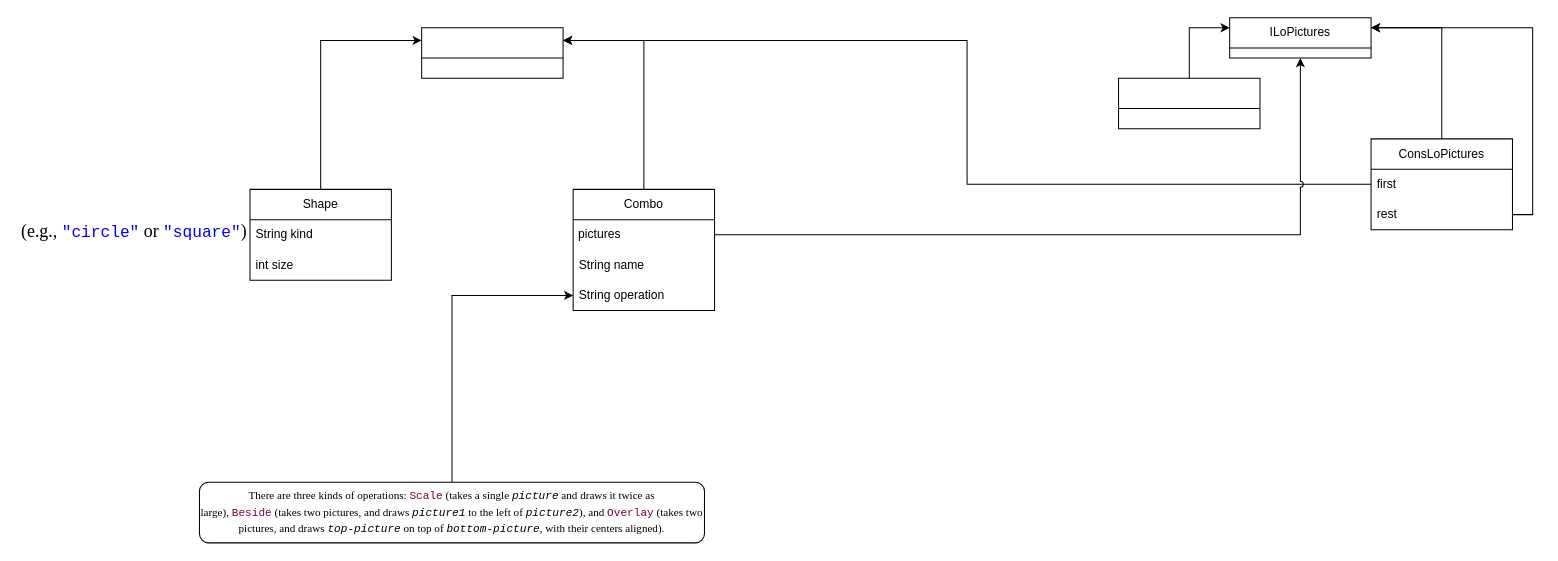
Image size: 1558x561. Some labels were removed from this diagram. Here are the shapes that lost their labels. From the top down, the centre of each, then its label:
At [492,52]: "IPicture".
At [1189,103]: "MtLoPictures".
